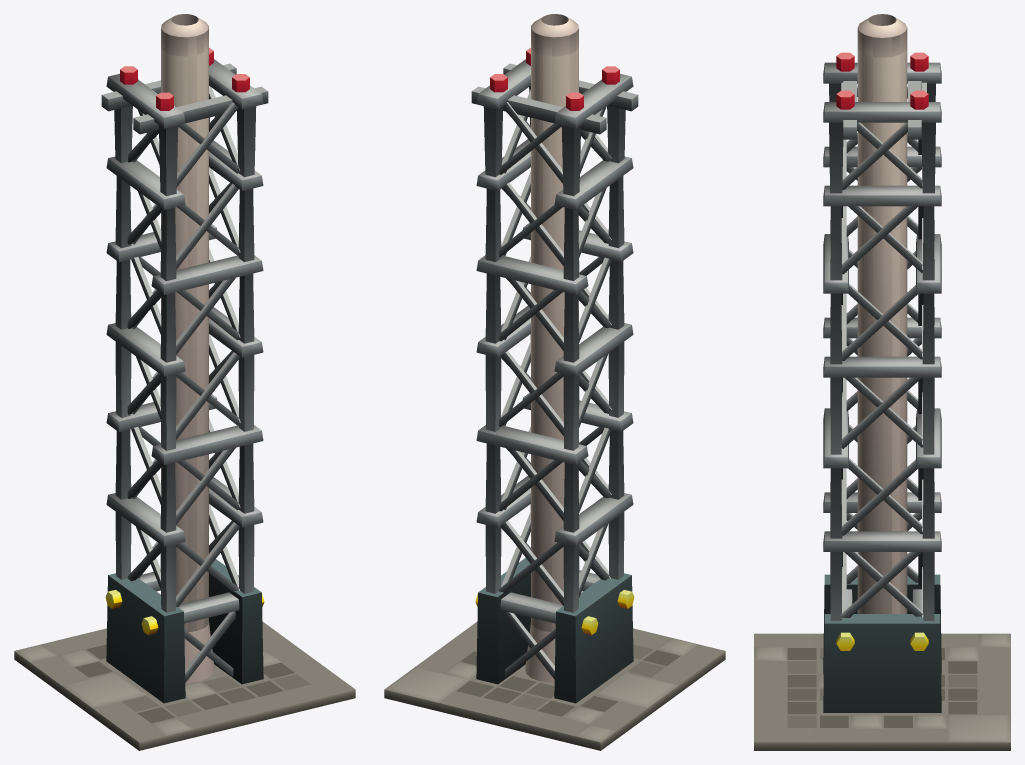
Rendered from Chimney_2A.fbx.
3 renders of one model, left to right at view 1: azimuth 30°, elevation 25°; view 2: azimuth 150°, elevation 25°; view 3: azimuth 270°, elevation 25°, orthographic. The views are drawn at different scales.
Parts seen in each view (by area): view 1: Chimney_2A; view 2: Chimney_2A; view 3: Chimney_2A.
Boxes of the visible parts, bbox=[...] form: Chimney_2A: bbox=[14, 14, 355, 750]; Chimney_2A: bbox=[384, 14, 725, 750]; Chimney_2A: bbox=[754, 14, 1010, 750].
Size of the model in its own units: 8 by 23.26 by 8.
